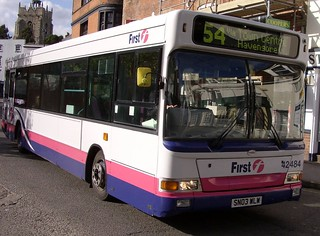bus: (3, 8, 309, 218)
